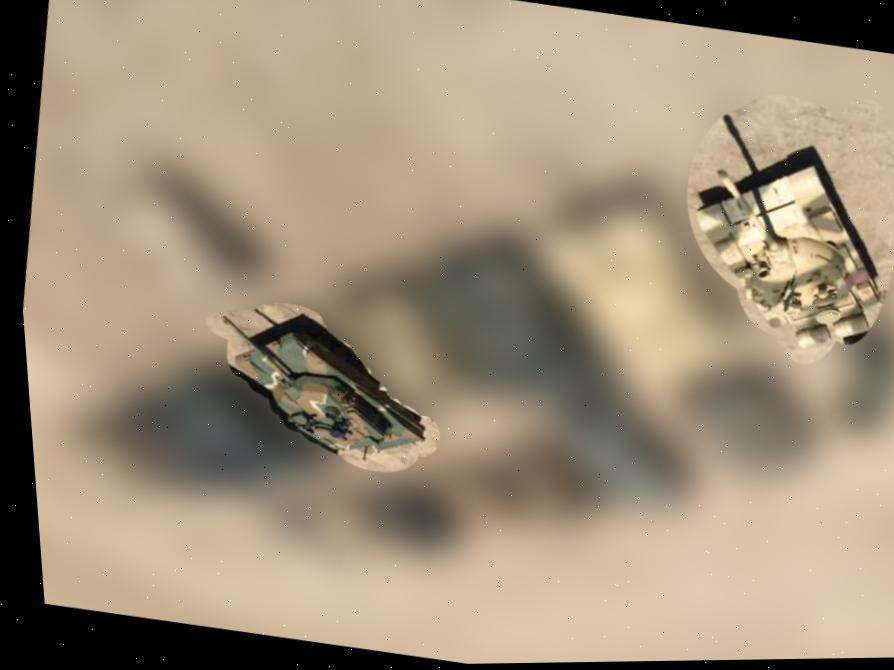tank: (665, 126, 894, 364), (198, 299, 444, 467)
